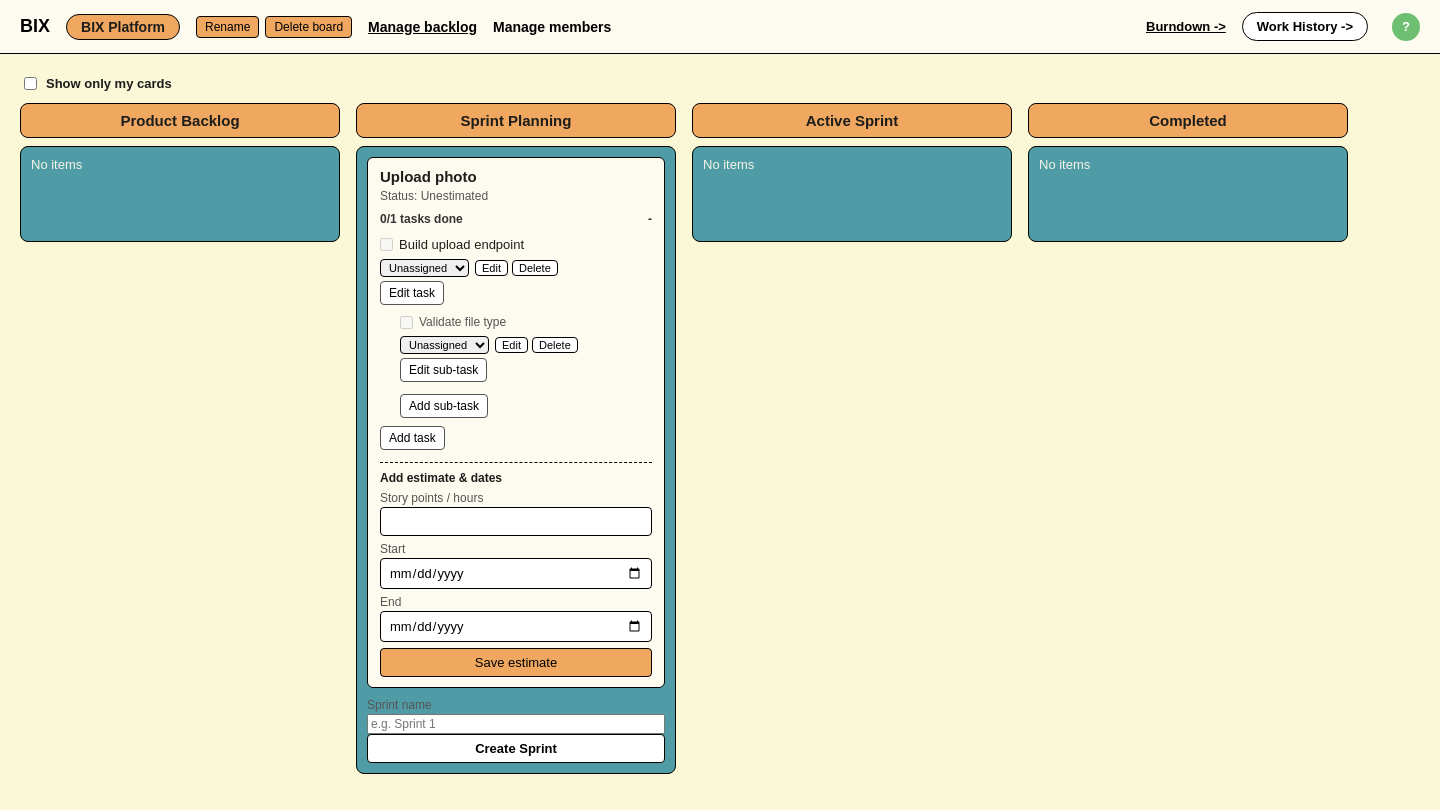
it: Board page - admin task/sub-task controls (US-04a) › delete › deletes a task after the user confirms, then shows the refreshed board
Expected: the text "Build upload endpoint" is shown, [399,237,524,252]
Click the button "Delete" below "Build upload endpoint": [535, 268] box [512,260,558,276]
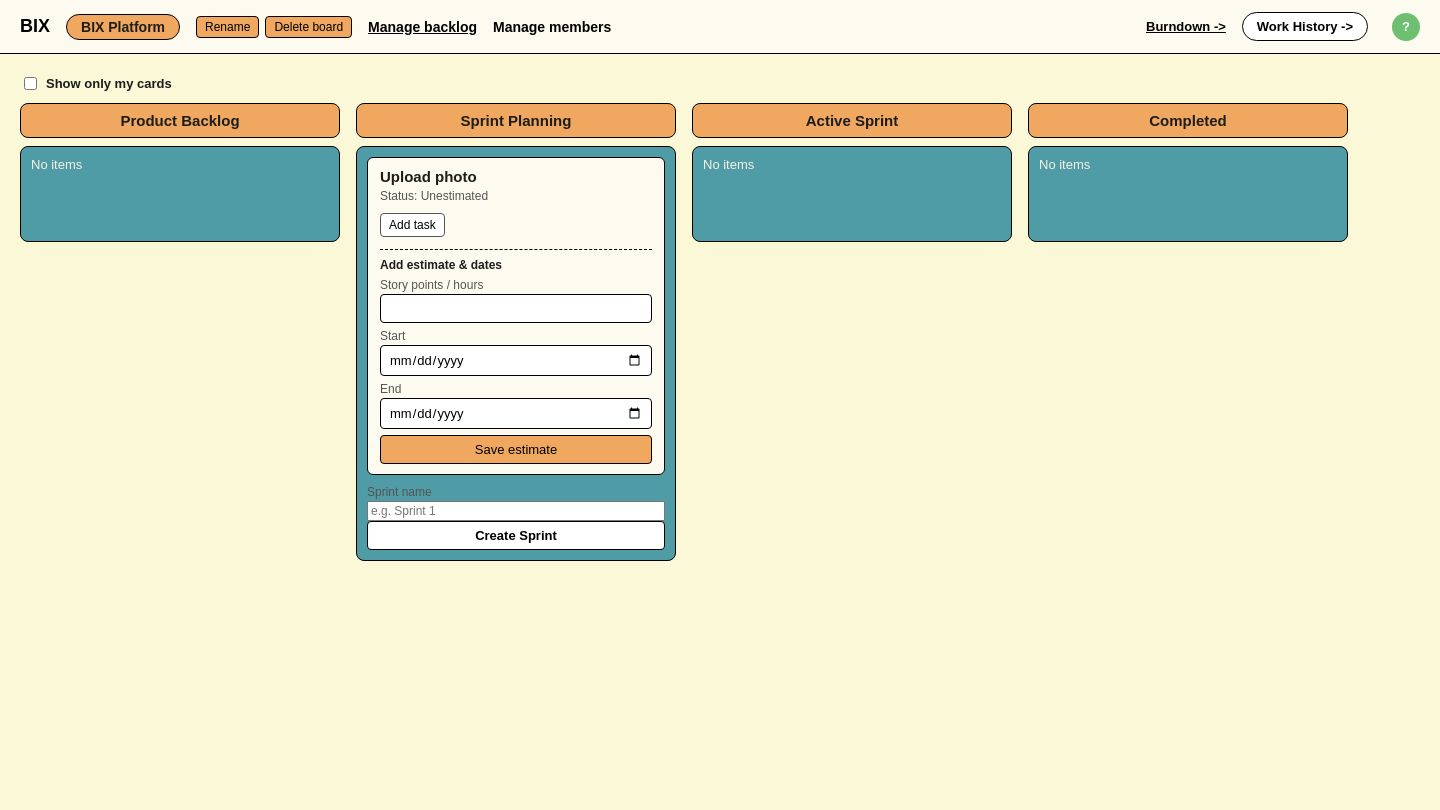
Expected: the text "Build upload endpoint" is gone
